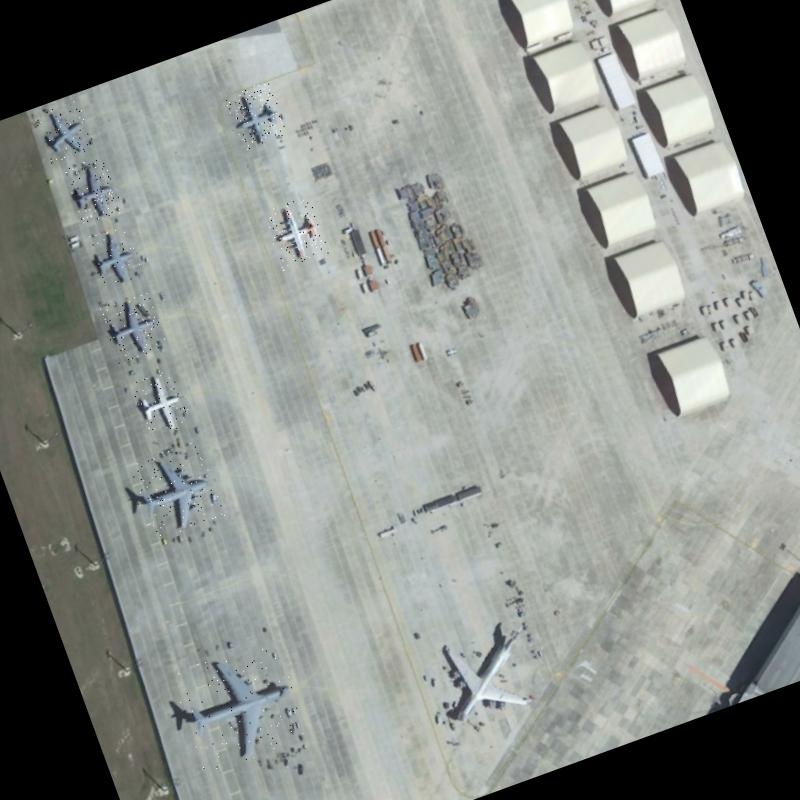A2: (98, 290, 168, 364), (262, 195, 330, 270), (129, 365, 193, 439), (224, 80, 288, 150), (62, 154, 124, 226), (84, 222, 144, 290), (34, 99, 97, 163)
A3: (123, 439, 224, 542)
A4: (167, 636, 311, 776), (428, 612, 548, 728)
